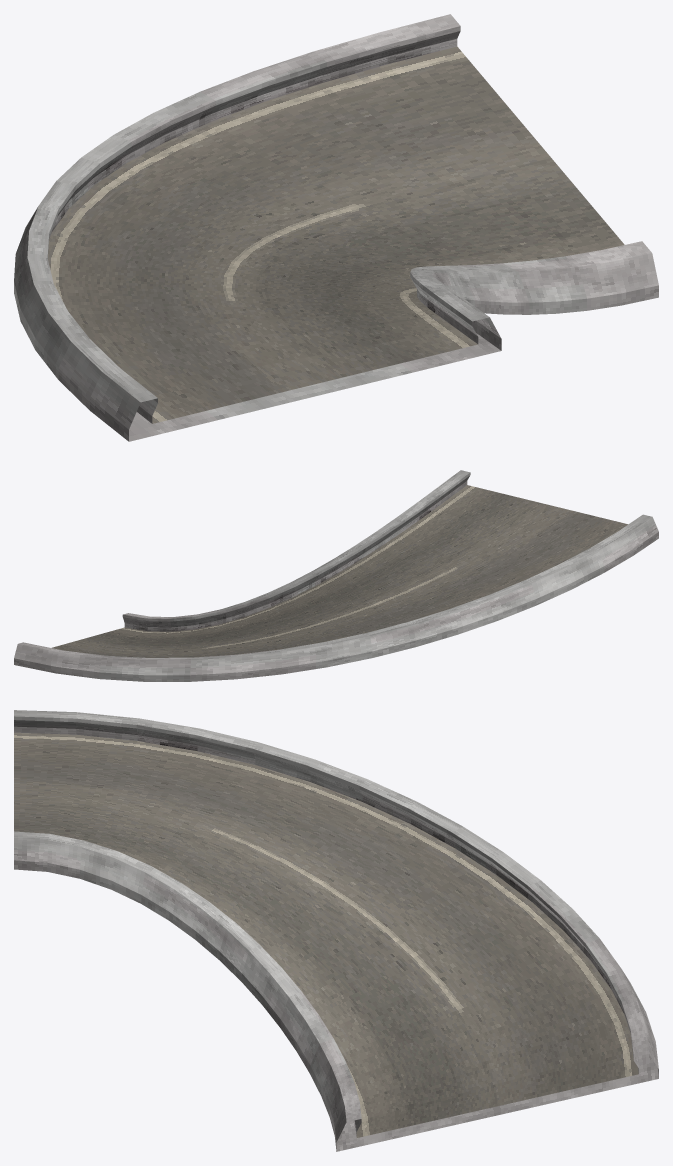
Rendered from turn-right2x2.glb.
The picture shows the model from 3 angles, top to bottom: view 1: azimuth 30°, elevation 25°; view 2: azimuth 150°, elevation 25°; view 3: azimuth 270°, elevation 25°; orthographic projection. The views are drawn at different scales.
Visible parts, largest first — view 1: road-Turn-Flat-HalfBankedRight-Down2-Right-Size2; view 2: road-Turn-Flat-HalfBankedRight-Down2-Right-Size2; view 3: road-Turn-Flat-HalfBankedRight-Down2-Right-Size2.
Part boxes in pixels (<box>): road-Turn-Flat-HalfBankedRight-Down2-Right-Size2: <box>14,14,658,441</box>; road-Turn-Flat-HalfBankedRight-Down2-Right-Size2: <box>14,470,658,681</box>; road-Turn-Flat-HalfBankedRight-Down2-Right-Size2: <box>14,710,658,1151</box>.
Bounding box in the file's own units: 2 × 0.5938 × 2.
Materials: 2 (2 with a texture image).
